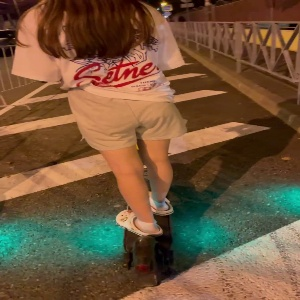human on a scooter: (8, 1, 188, 288)
